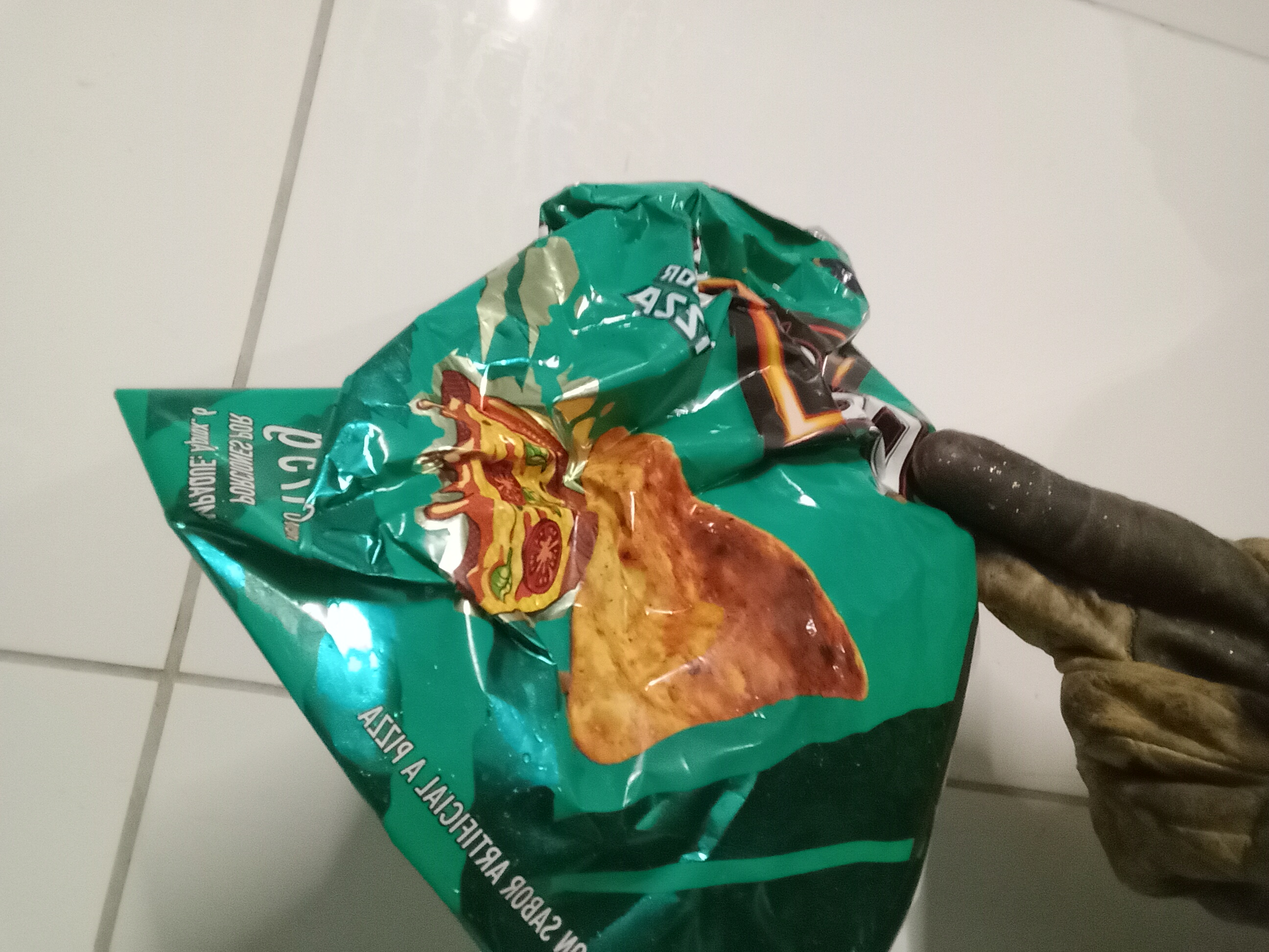Ordinario: (112, 179, 977, 952)
